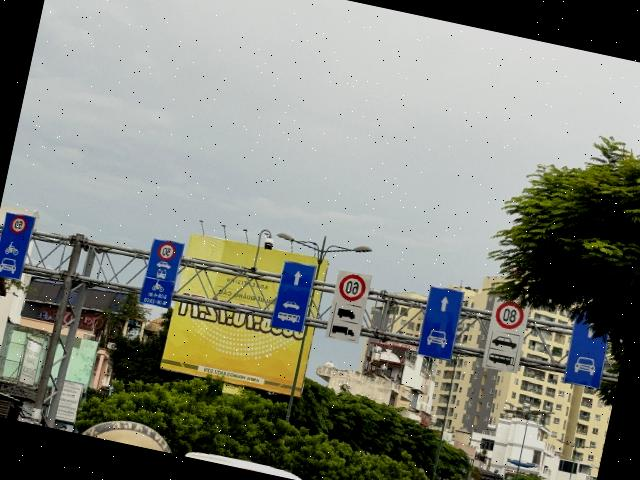toc-do-toi-da-cho-phep: (492, 299, 525, 332), (337, 272, 368, 304), (156, 241, 177, 262), (8, 215, 29, 235)
